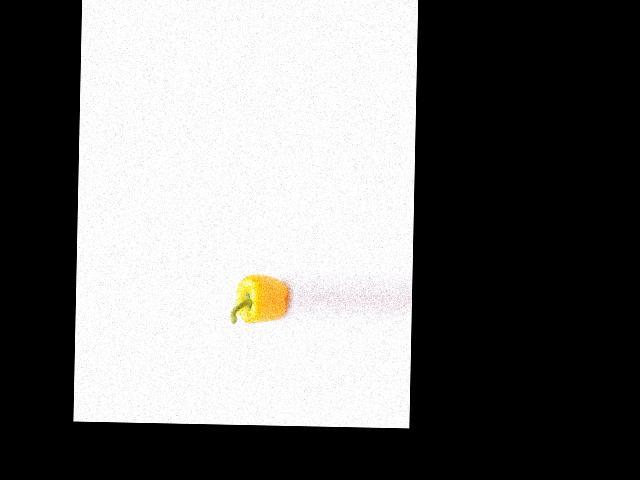bell_pepper: (232, 269, 289, 326)
